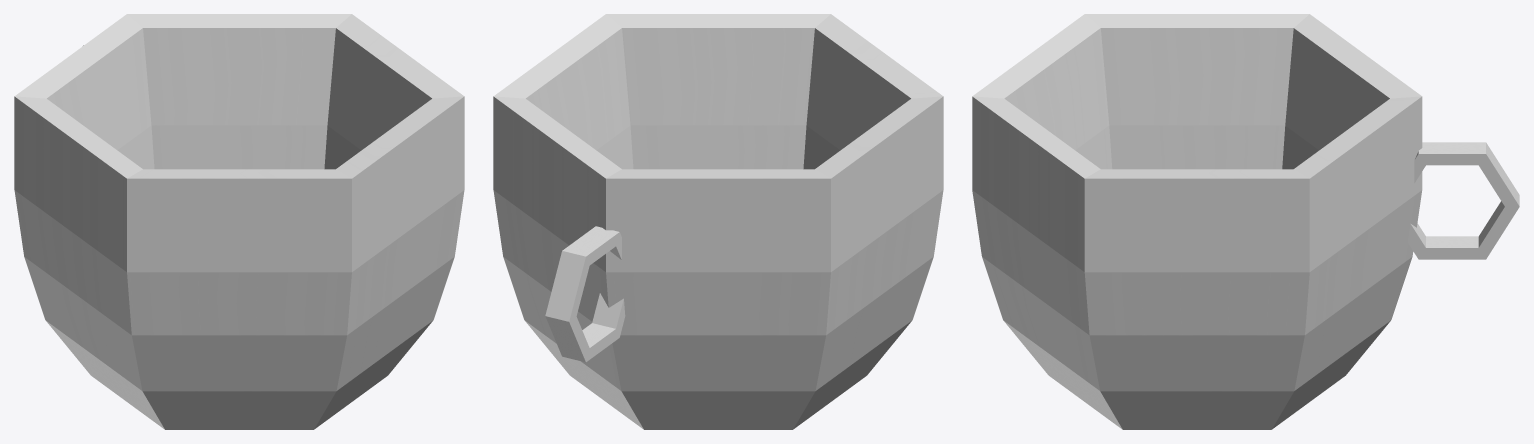
File: tazza.fbx
3 views of the same model, side by side, from view 1: azimuth 30°, elevation 25°; view 2: azimuth 150°, elevation 25°; view 3: azimuth 270°, elevation 25° (orthographic).
Parts seen in each view (by area): view 1: tazza; view 2: tazza; view 3: tazza.
Part boxes in pixels (<box>): tazza: <box>14,14,464,429</box>; tazza: <box>493,14,943,429</box>; tazza: <box>972,14,1519,429</box>.
Size of the model in its own units: 7.67 by 6.07 by 10.78.
